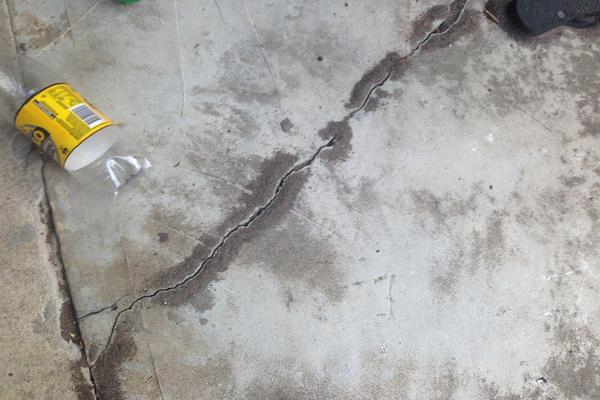Plastic Bottle: (0, 44, 154, 199)
